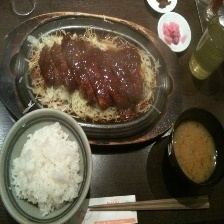rice: (8, 120, 84, 216)
